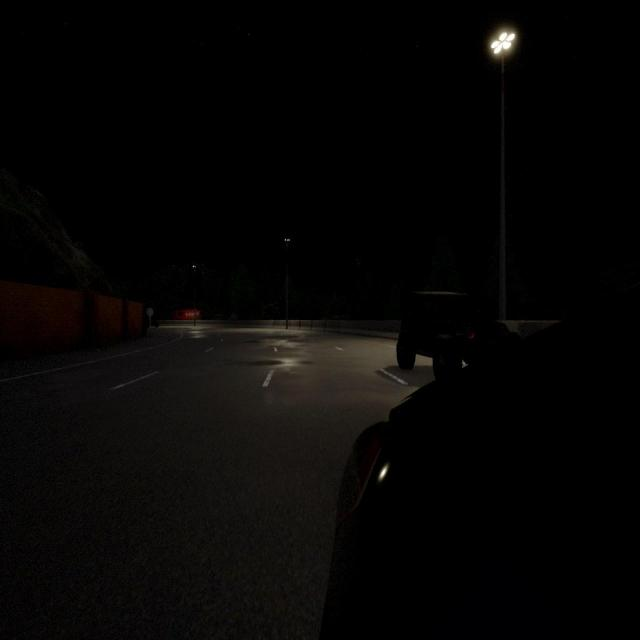Traffic_Signs: (147, 308, 153, 316)
Vehicle: (320, 286, 640, 638), (396, 292, 520, 379), (175, 310, 201, 319)
